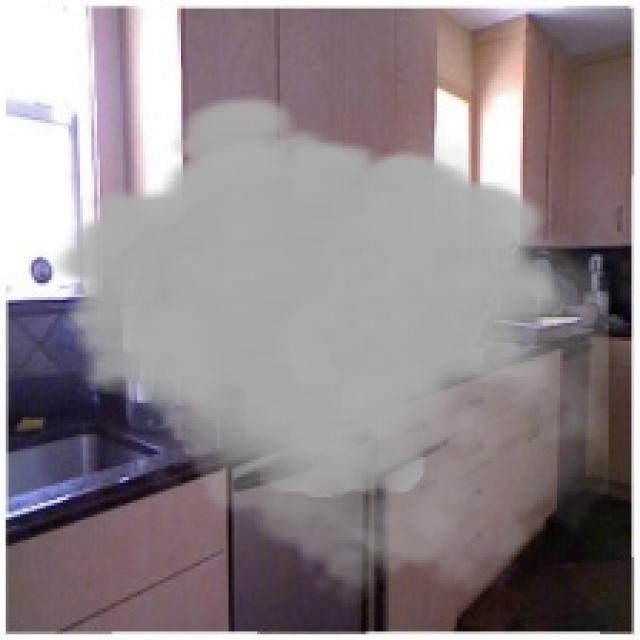Smoke: (51, 91, 608, 608)
